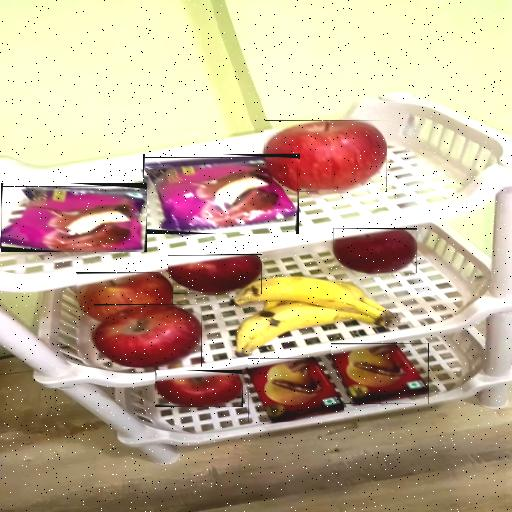Apple: (265, 121, 386, 191), (94, 305, 201, 366), (77, 272, 172, 320), (333, 229, 417, 273), (168, 256, 262, 293), (156, 373, 242, 407)
Choco Fills: (248, 359, 344, 422), (331, 343, 428, 404)
Choco Pie: (145, 158, 297, 231), (1, 187, 147, 251)
